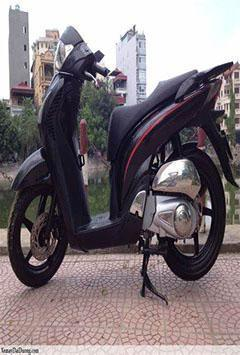motorcycle: (4, 20, 236, 316)
